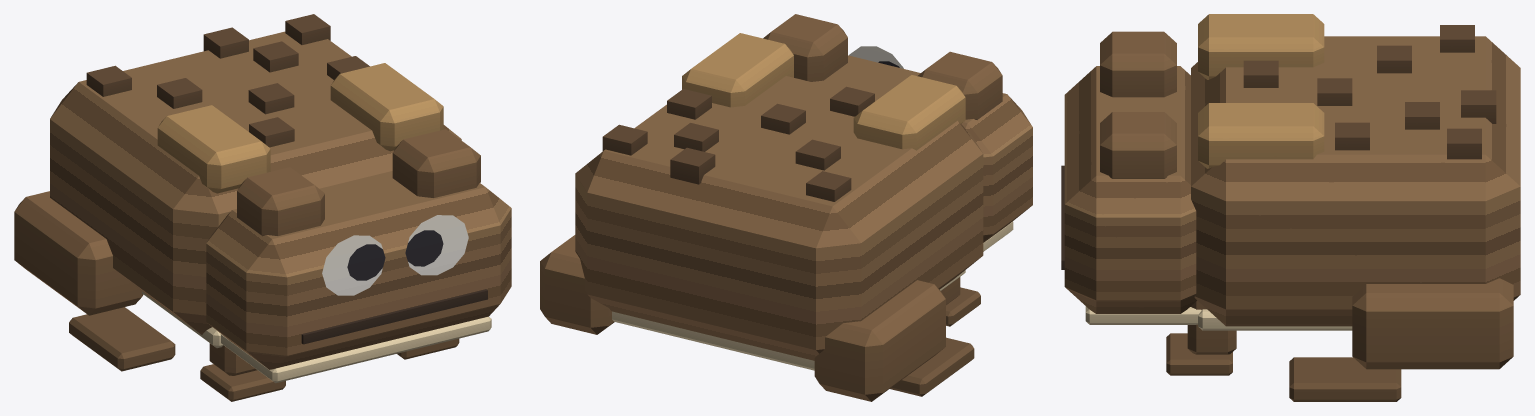
File: sapo.glb
3 renders of one model, left to right at view 1: azimuth 30°, elevation 25°; view 2: azimuth 150°, elevation 25°; view 3: azimuth 270°, elevation 25°, orthographic. The views are drawn at different scales.
Visible parts, largest first — view 1: body, head, leg-back-right, leg-front-right, leg-front-left; view 2: body, head, leg-back-right, leg-back-left, leg-front-right; view 3: body, head, leg-back-left, leg-front-left.
Boxes of the visible parts, x1,y1,x2,y2 form: body: (50,14,461,348); head: (206,129,511,383); leg-back-right: (14,191,175,371); leg-front-right: (200,343,285,401); leg-front-left: (397,338,459,359); body: (575,33,983,370); head: (763,14,1032,251); leg-back-right: (814,280,974,401); leg-back-left: (540,235,614,334); leg-front-right: (941,277,980,326); body: (1191,14,1520,330); head: (1061,31,1201,324); leg-back-left: (1289,278,1513,401); leg-front-left: (1166,300,1236,375).
Size of the model in its own units: 1.2 by 0.78 by 1.31.
1 material, 1 textured.
